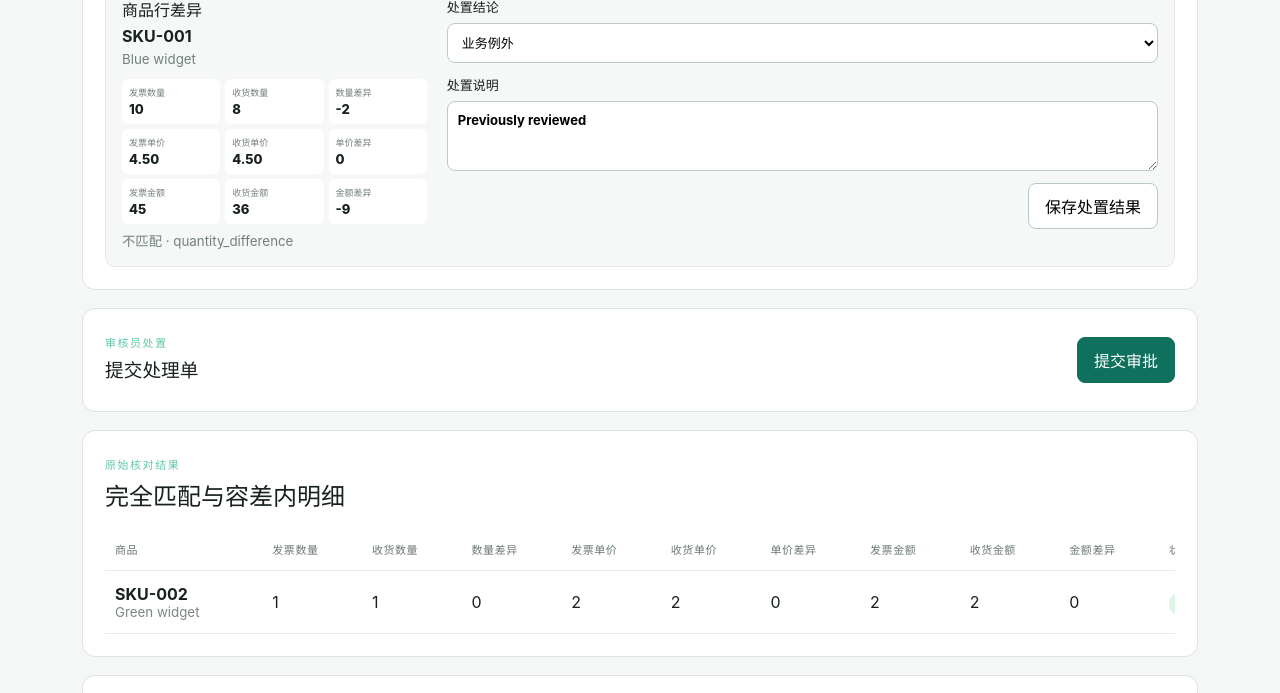
it: CaseDetailPage reviewer workflow › submits only the approval transition supported by completed items
(page scrolled)
Click the button "提交审批".
click(1126, 360)  # box [1077,337,1175,383]
(page scrolled)
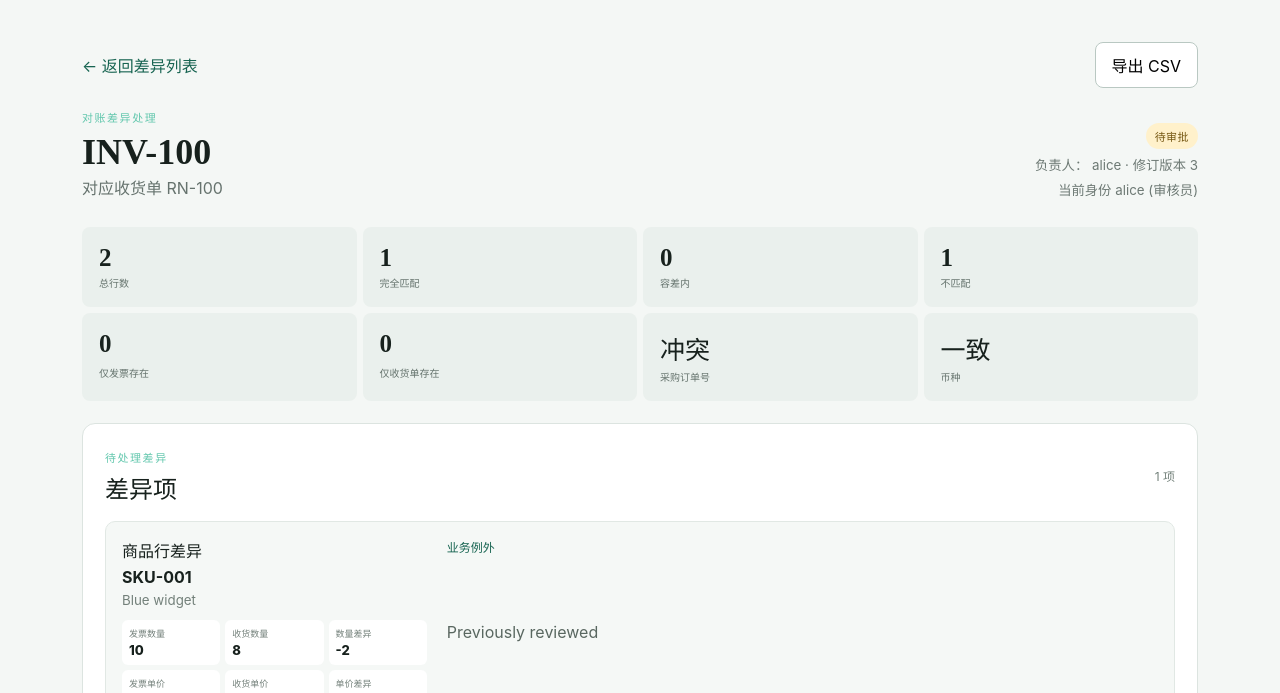
Result: the text "待审批" is shown at [1146,123,1198,149]
